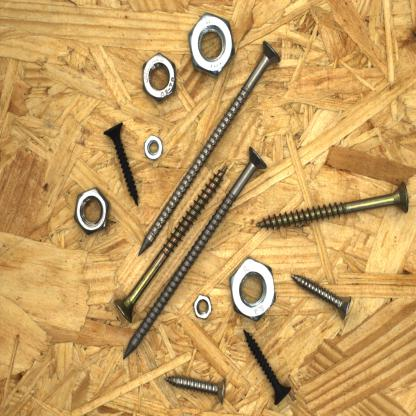screw: (121, 142, 270, 362), (137, 38, 283, 258), (112, 161, 231, 326), (252, 179, 411, 233), (241, 326, 293, 408), (102, 117, 142, 209), (288, 270, 356, 323), (162, 372, 228, 409)
